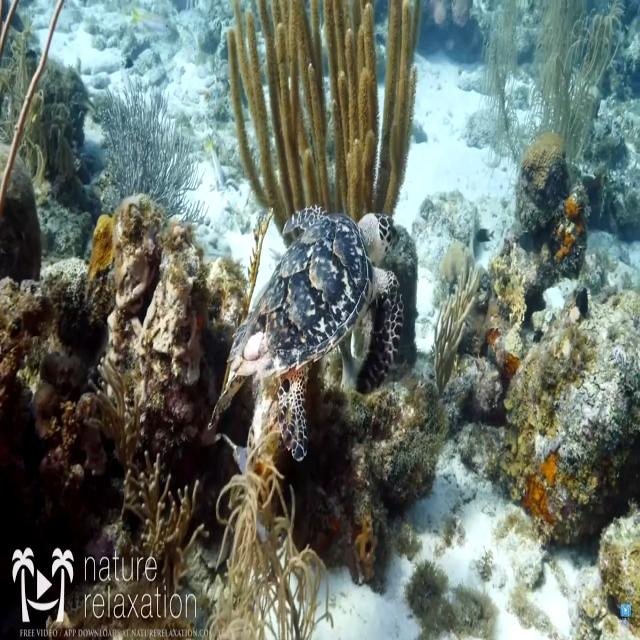Sea turtle: (216, 204, 404, 464)
